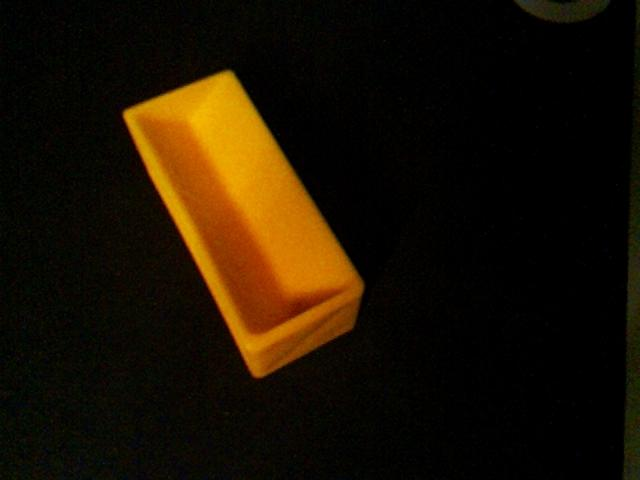yellow: (121, 68, 367, 380)
